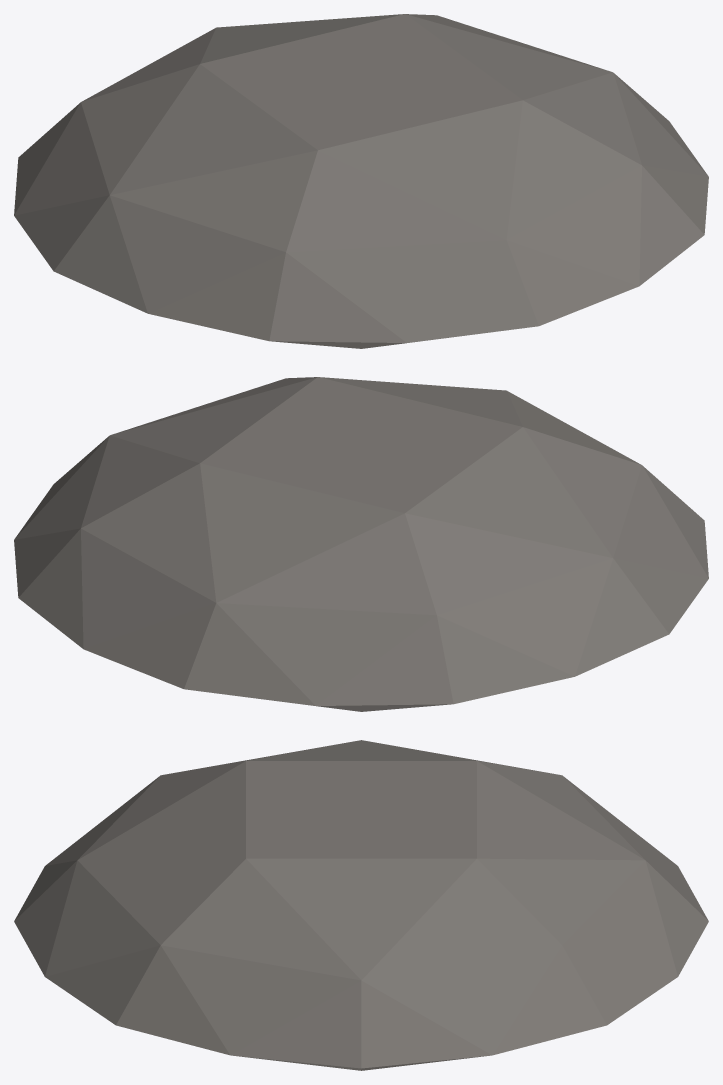
File: gem.obj
3 renders of one model, top to bottom at view 1: azimuth 30°, elevation 25°; view 2: azimuth 150°, elevation 25°; view 3: azimuth 270°, elevation 25°, orthographic. The views are drawn at different scales.
Visible parts, largest first — view 1: mesh0120; view 2: mesh0120; view 3: mesh0120.
Boxes of the visible parts, x1=… form: mesh0120: x1=14, y1=14, x2=708, y2=348; mesh0120: x1=14, y1=377, x2=708, y2=711; mesh0120: x1=14, y1=740, x2=708, y2=1070.
Bounding box in the file's own units: 7.43 × 3.08 × 7.43.
Materials: 1 (1 with a texture image).
